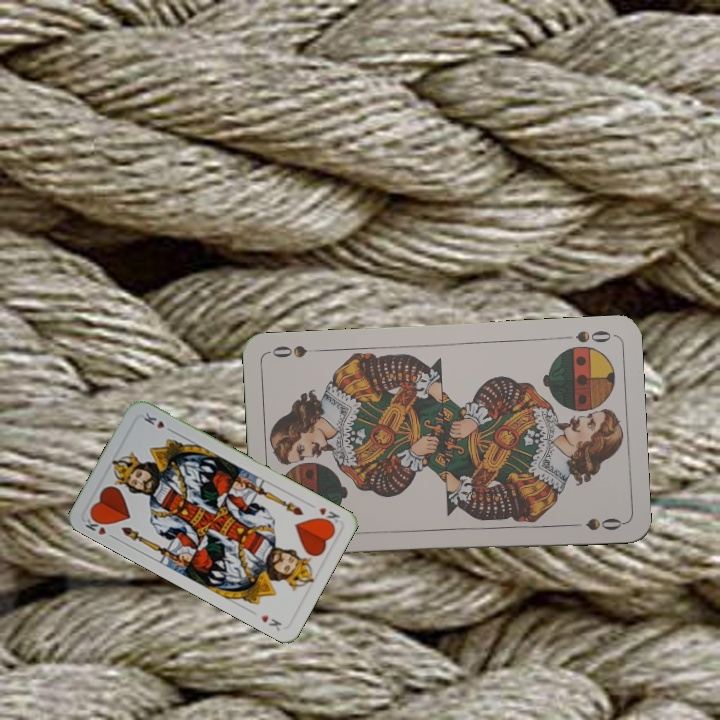HK: (81, 511, 118, 542), (314, 503, 343, 529)
SO: (572, 326, 614, 346)
